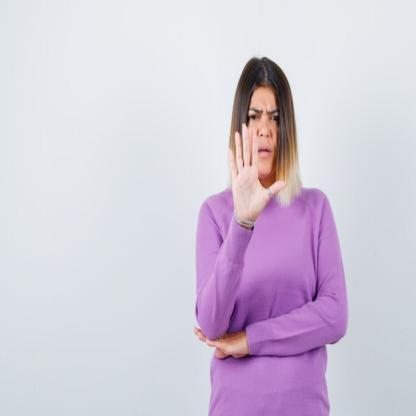stop: (226, 120, 289, 222)
